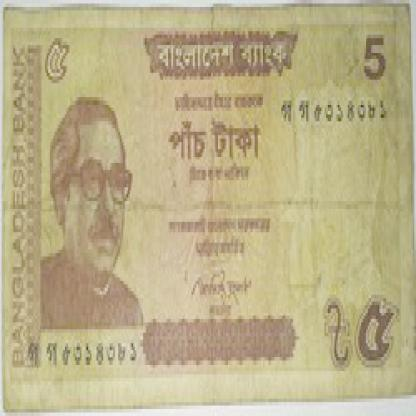Five Taka: (352, 288, 398, 385), (358, 24, 389, 90), (42, 31, 73, 97)
